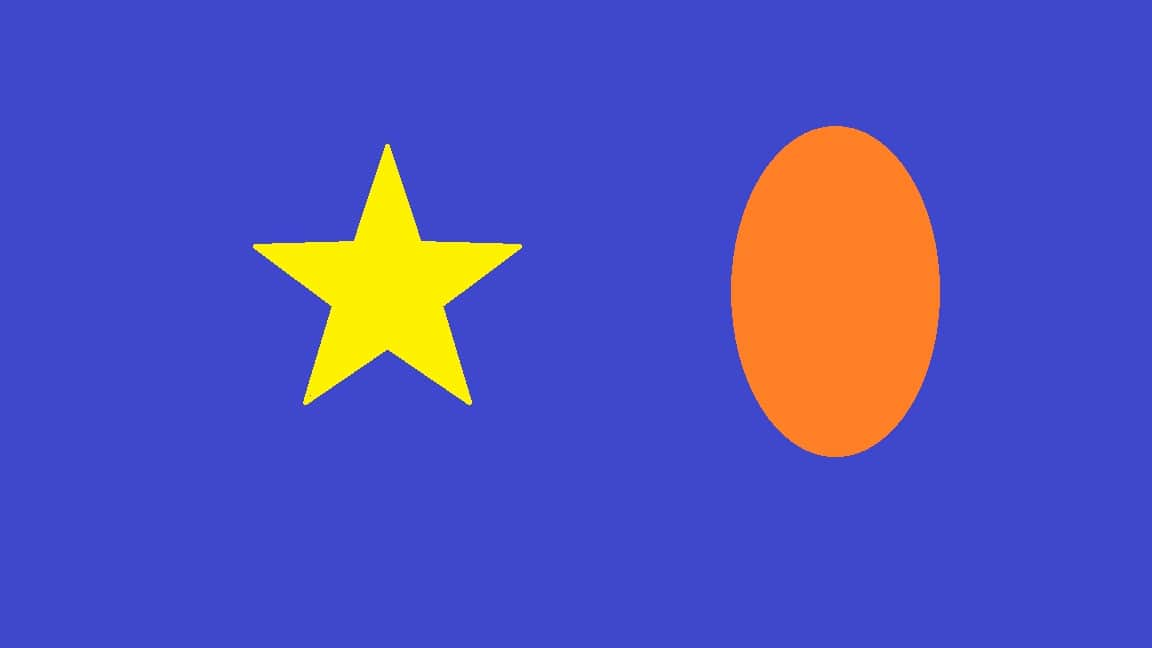Oval: (723, 122, 941, 456)
Star: (253, 138, 524, 410)
